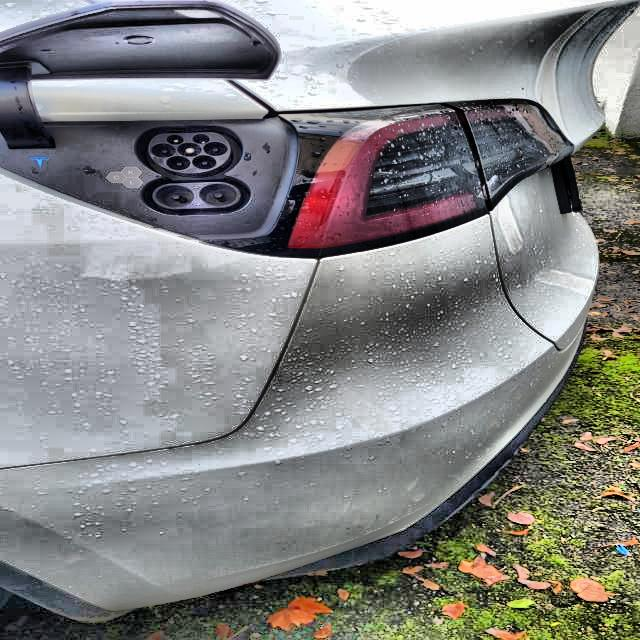inlet: (148, 132, 231, 173)
inlet-above-left: (166, 135, 183, 145)
inlet-above-right: (193, 134, 210, 144)
inlet-below-left: (166, 156, 191, 170)
inlet-below-right: (192, 155, 217, 169)
inlet-center: (178, 143, 201, 157)
inlet-center-left: (152, 144, 175, 157)
inlet-center-right: (203, 142, 227, 156)
